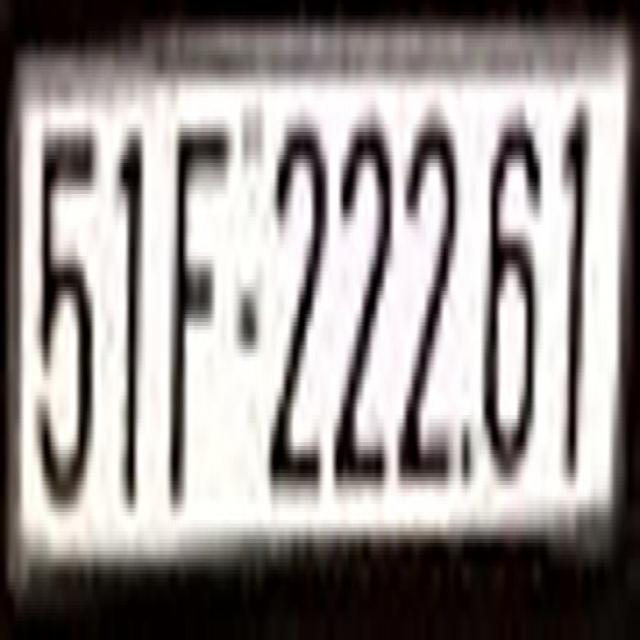1: (558, 101, 592, 473), (116, 132, 142, 527)
2: (272, 116, 324, 481), (404, 109, 449, 488), (339, 108, 386, 466)
5: (40, 124, 95, 512)
6: (478, 105, 532, 454)
F: (170, 120, 225, 493)
